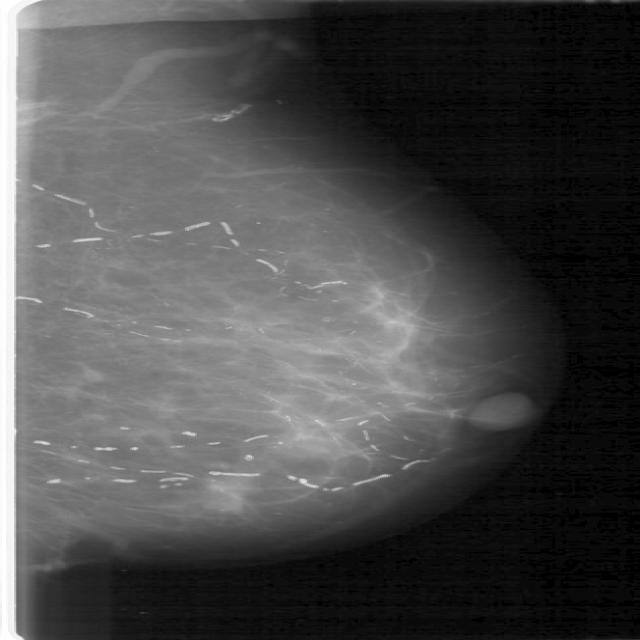tumour: (201, 470, 254, 516)
